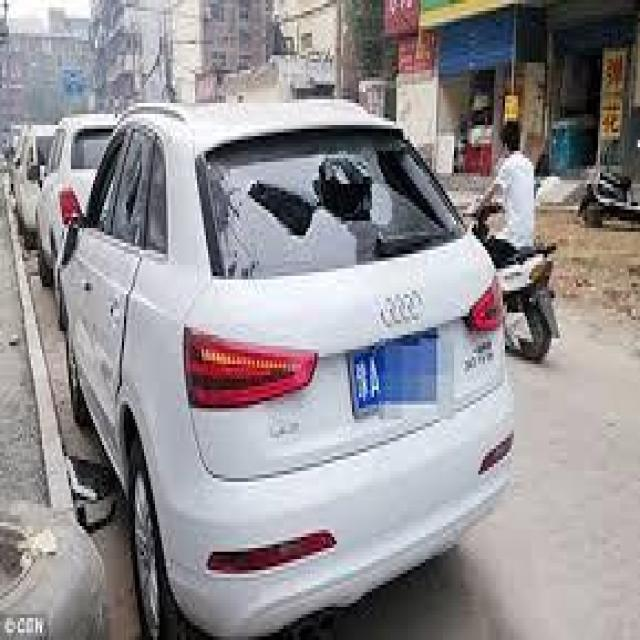damaged: (204, 136, 466, 254)
